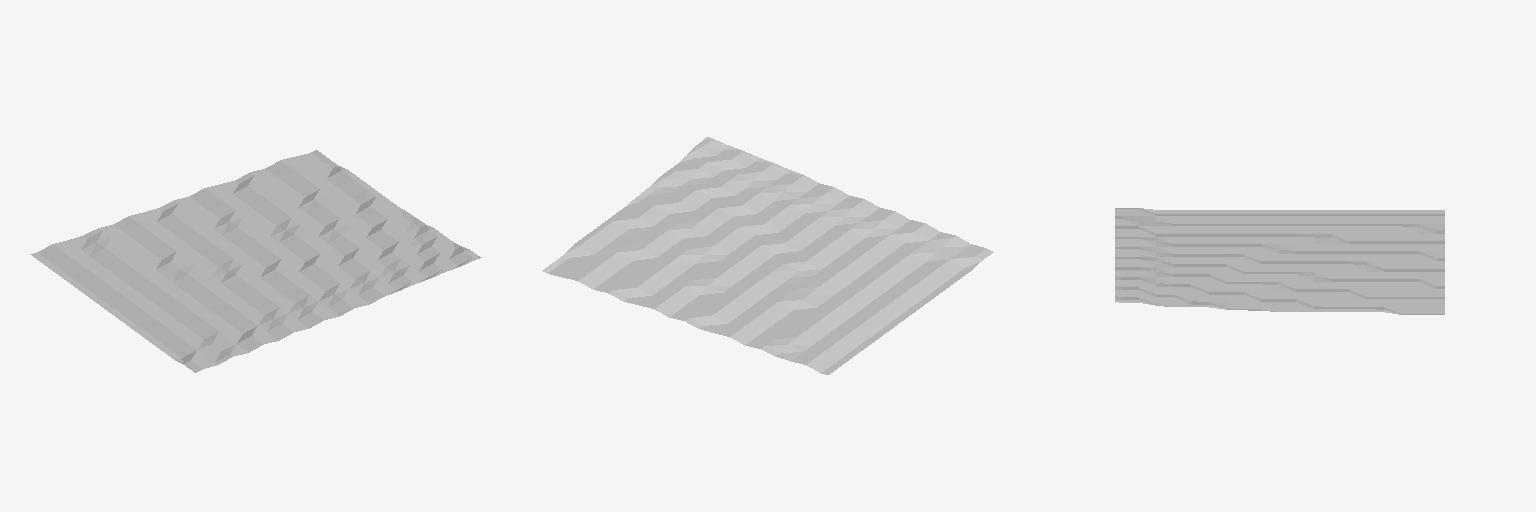
The model's file is terrain_-5_-5.obj.
The picture shows the model from 3 angles: view 1: azimuth 30°, elevation 25°; view 2: azimuth 150°, elevation 25°; view 3: azimuth 270°, elevation 25°; orthographic projection.
Visible parts, largest first — view 1: terrain_-5_-5_Plane.055; view 2: terrain_-5_-5_Plane.055; view 3: terrain_-5_-5_Plane.055.
Part boxes in pixels (x1,y1,x2,y2): terrain_-5_-5_Plane.055: (30,150,481,372); terrain_-5_-5_Plane.055: (542,137,993,374); terrain_-5_-5_Plane.055: (1115,208,1444,314).
Size of the model in its own units: 32 by 5.09 by 32.